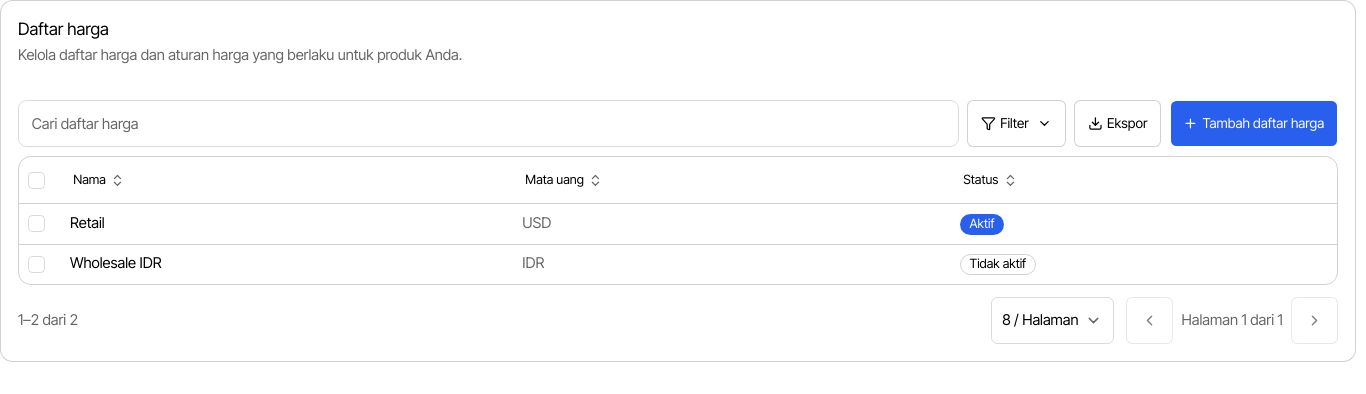
Test: PriceBooksSection › filters price_books through the search box
Expected: the link "Retail" is shown, [70, 214, 105, 232]
Type "Wholesale" into the search field with placeholder "Cari daftar harga" at coordinates (488, 124), box [18, 100, 959, 147]
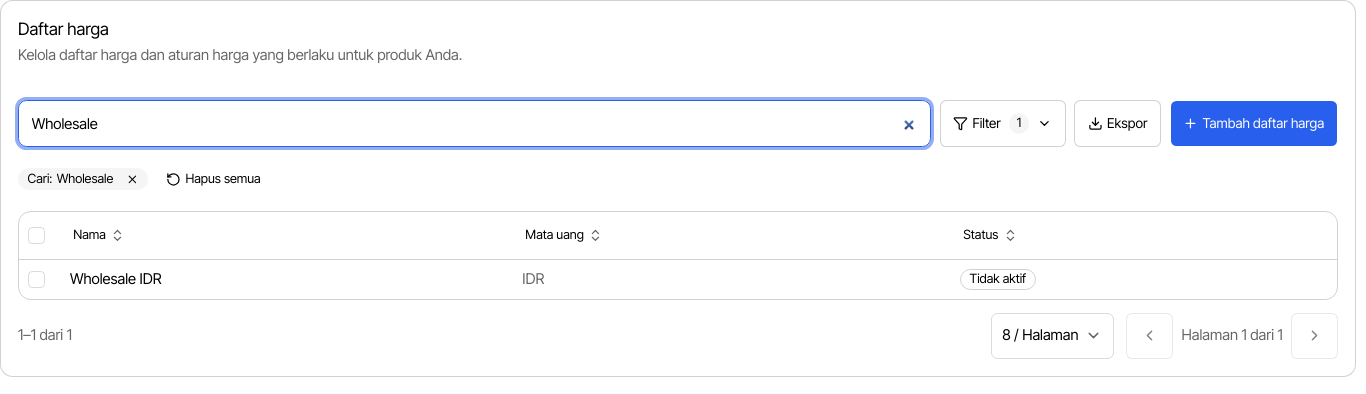
Expected: the link "Wholesale IDR" is shown, [70, 270, 162, 288]
Expected: the link "Retail" is gone
